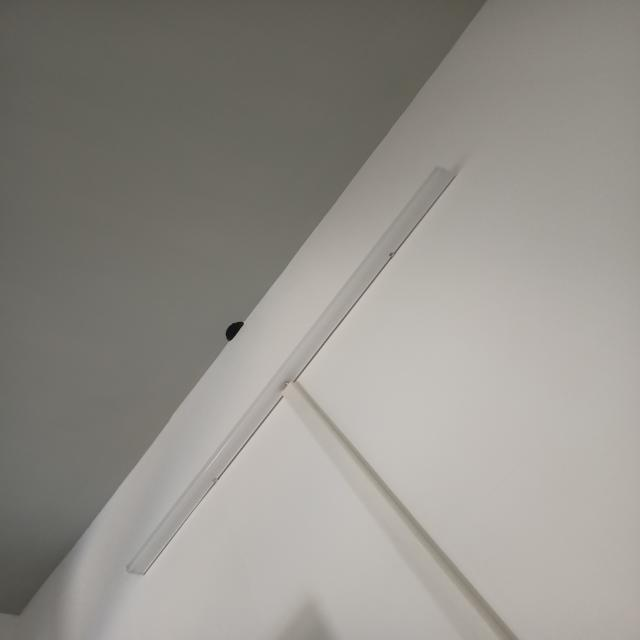light_off: (120, 163, 462, 580)
